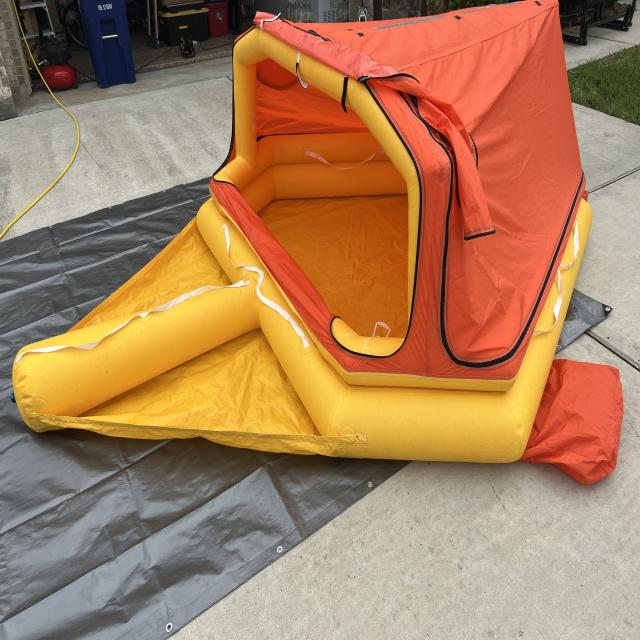Multi-person_life_raft: (10, 1, 624, 488)
